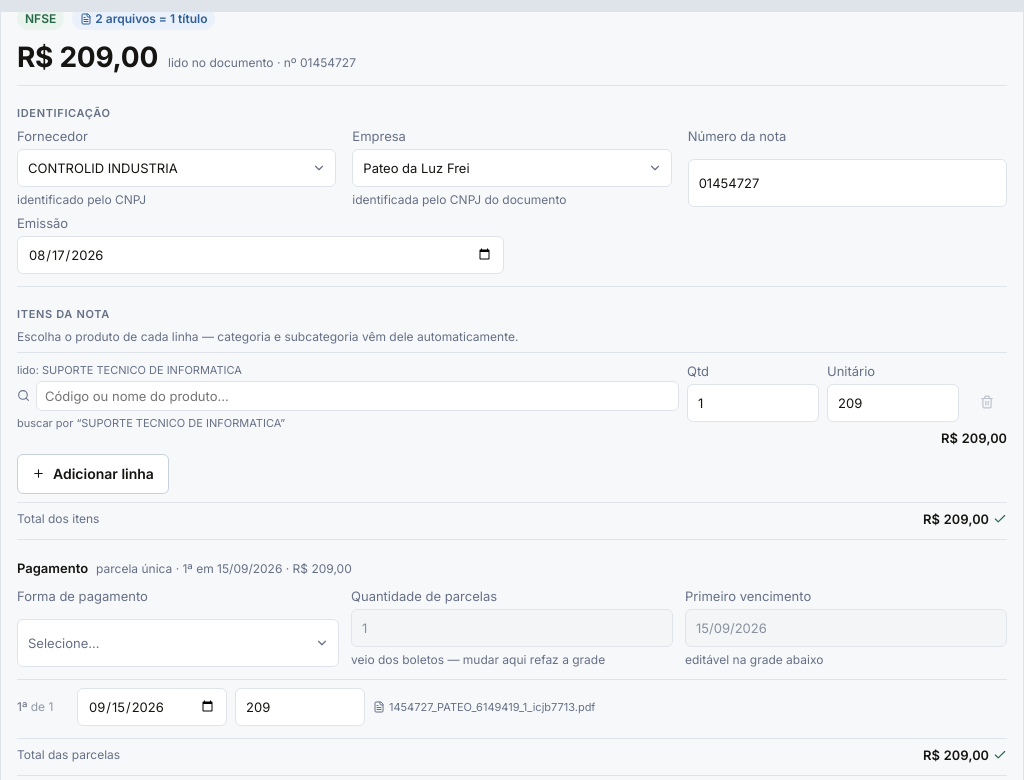
Test: Conferência — travas antes de gravar › não deixa lançar se o total dos itens não bate com o do documento
(page scrolled)
In the field named "Buscar produto": (358, 396) 36,381 -> 679,411, type "suporte"
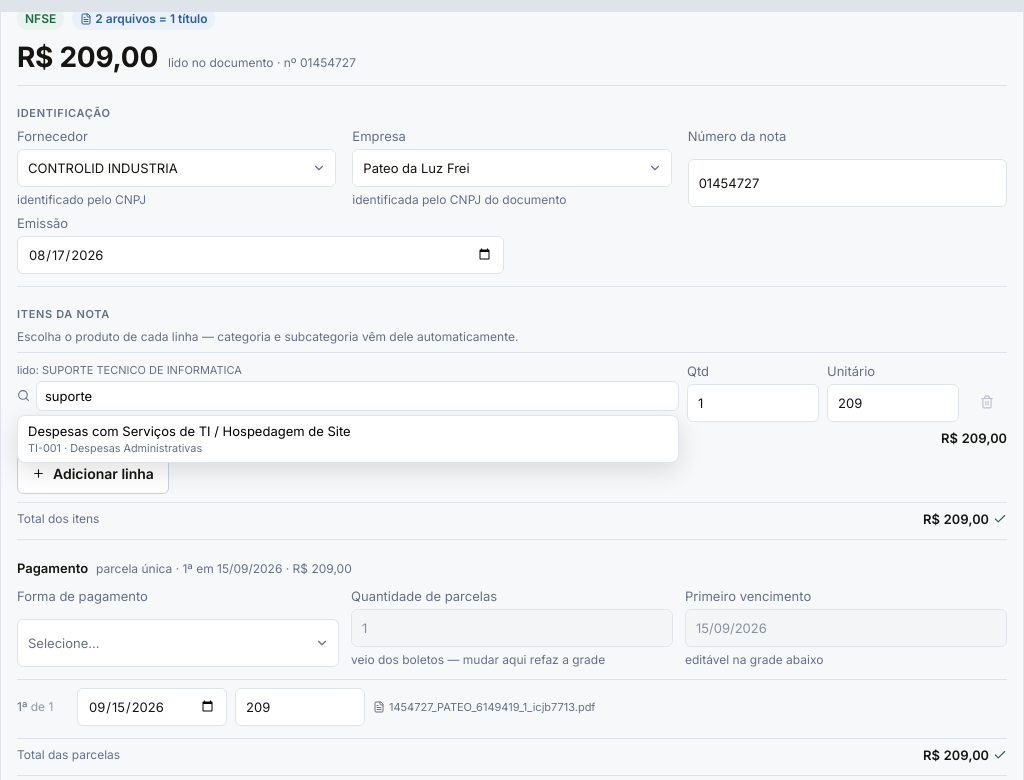
Click the button "Despesas com Serviço": (348, 439) 18,416 -> 678,462
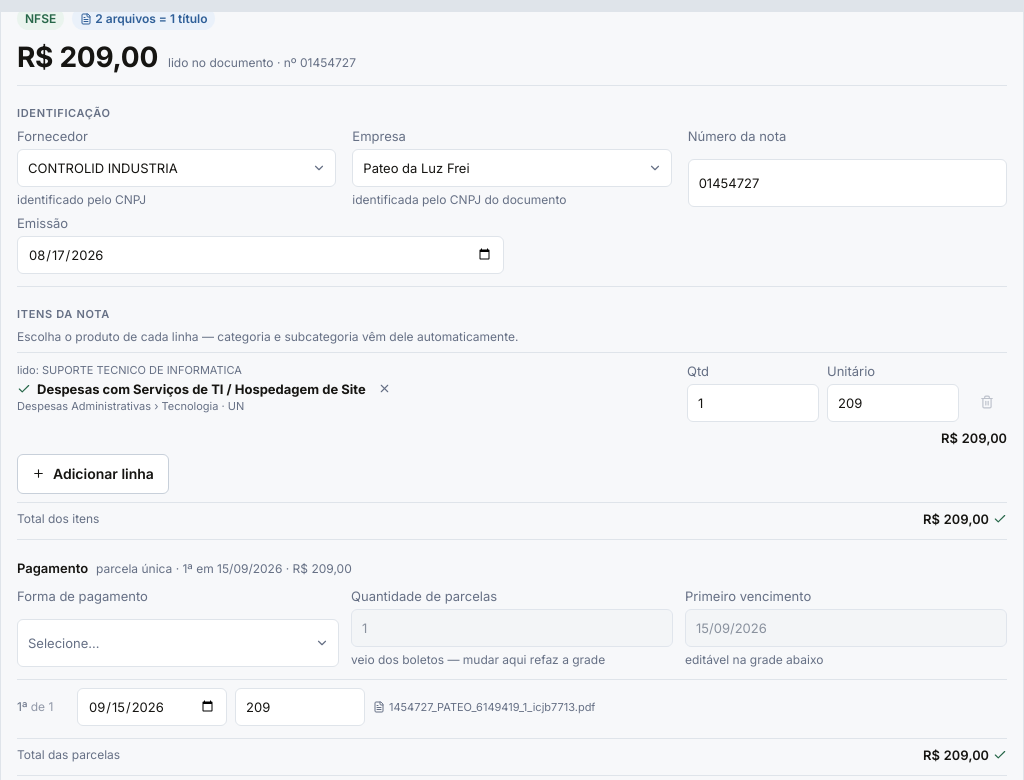
Select "BOLETO" in the dropdown labelled "Forma de pagamento": (178, 643) 17,619 -> 339,667
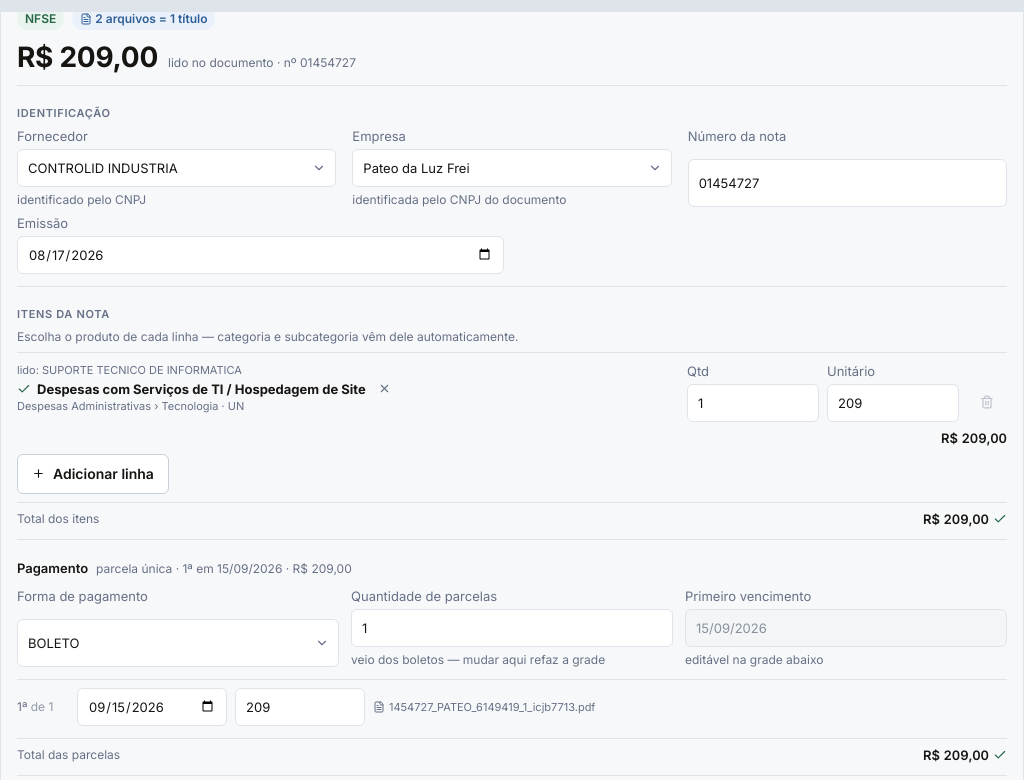
Replace the text in the number field named "Preço unitário da linha 1" with "150": (893, 403) 827,384 -> 959,422
(page scrolled)
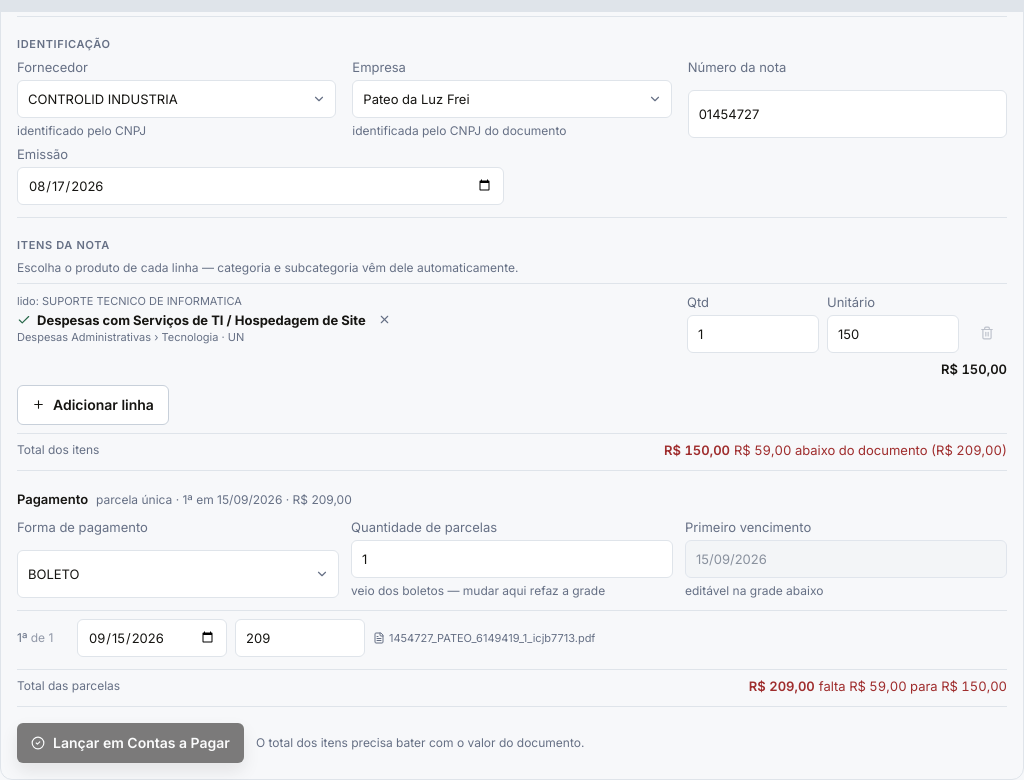
Now the text "R$ 59,00 abaixo do documento (R$ 209,00)" is shown, box 734,442 -> 1007,458
Now the button "Lançar em Contas a Pagar" is disabled, box 17,723 -> 244,763
